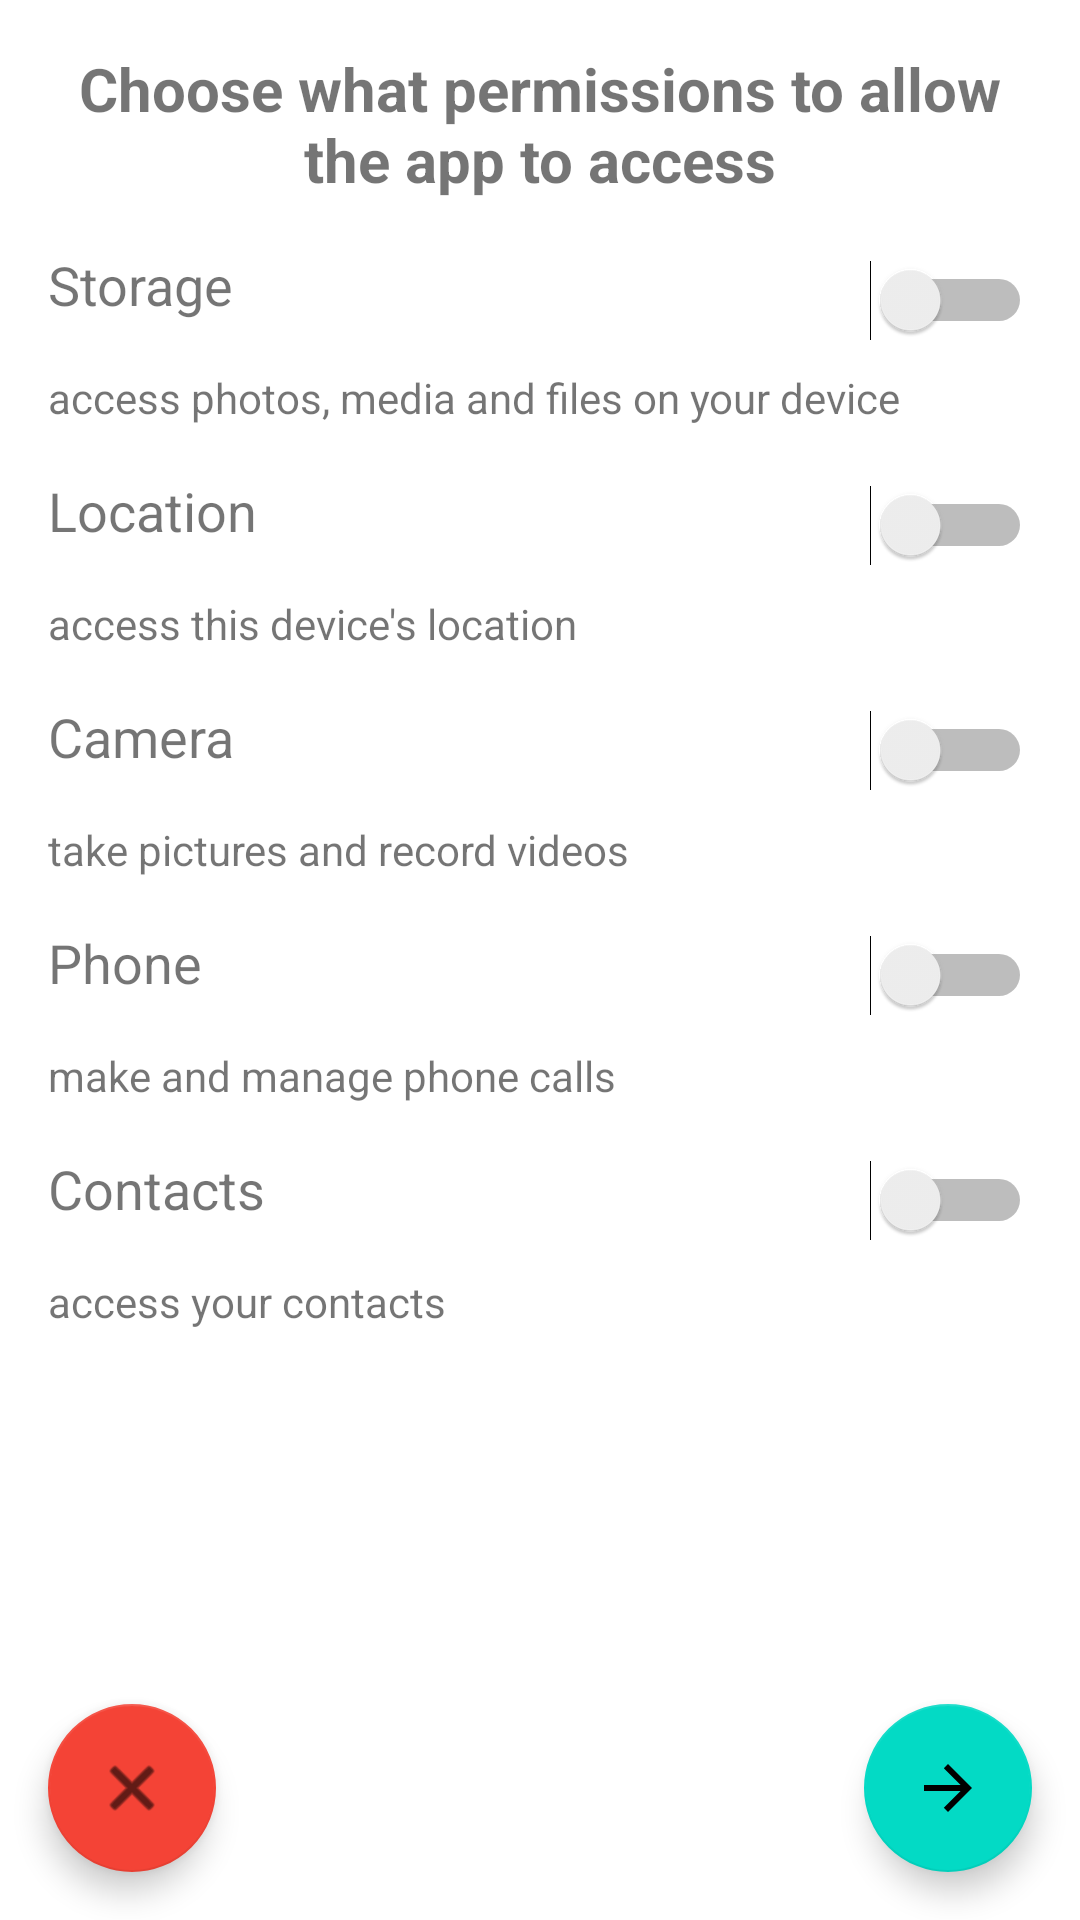

Screen size 1080px×1920px. Icon name, then its center in pixels as (x,y):
close clear cancel: (132,1788)
